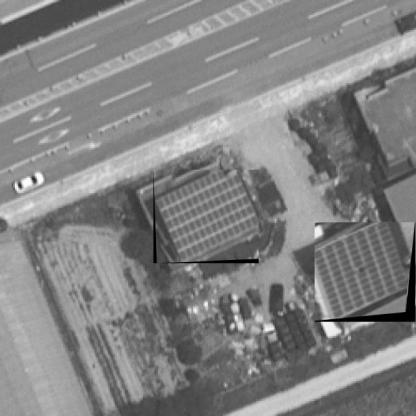solar-pv-panel: (154, 170, 259, 262), (315, 222, 410, 319)
